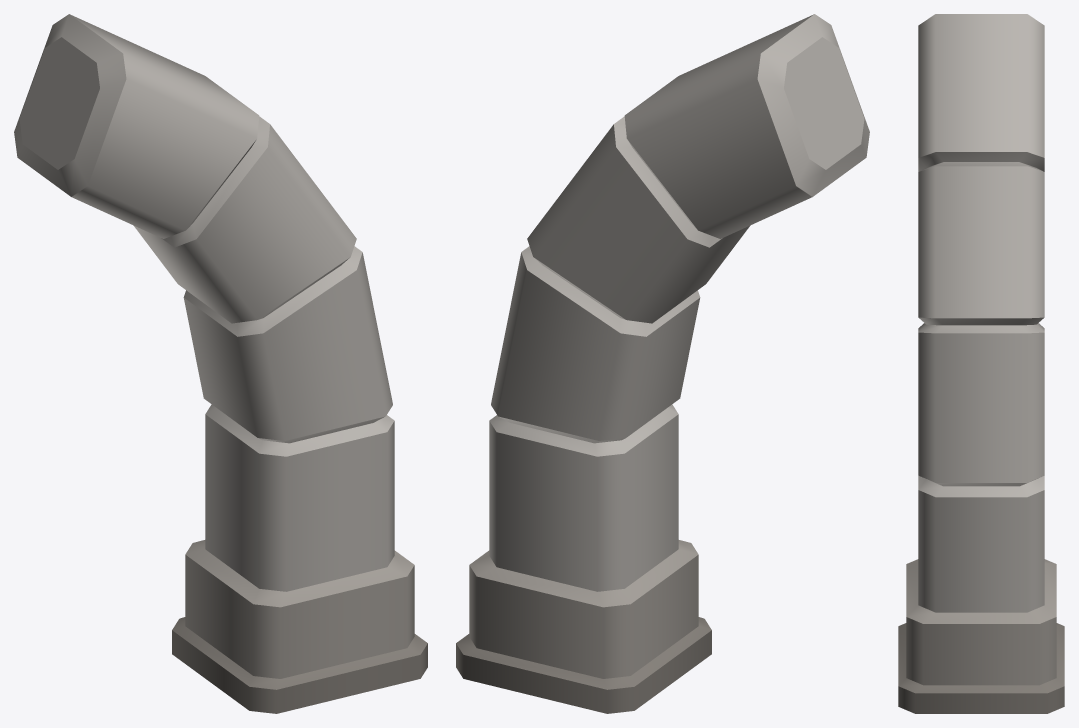
File: Arch 01.FBX
The picture shows the model from 3 angles, left to right: view 1: azimuth 30°, elevation 25°; view 2: azimuth 150°, elevation 25°; view 3: azimuth 270°, elevation 25°; orthographic projection. The views are drawn at different scales.
Visible parts, largest first — view 1: Arch 01; view 2: Arch 01; view 3: Arch 01.
Part boxes in pixels (box(x1,y1,x2,y2)): Arch 01: box(14, 14, 427, 713); Arch 01: box(456, 14, 869, 713); Arch 01: box(898, 14, 1064, 713).
Bounding box in the file's own units: 203 × 376 × 97.97.
Materials: 1 (1 with a texture image).
